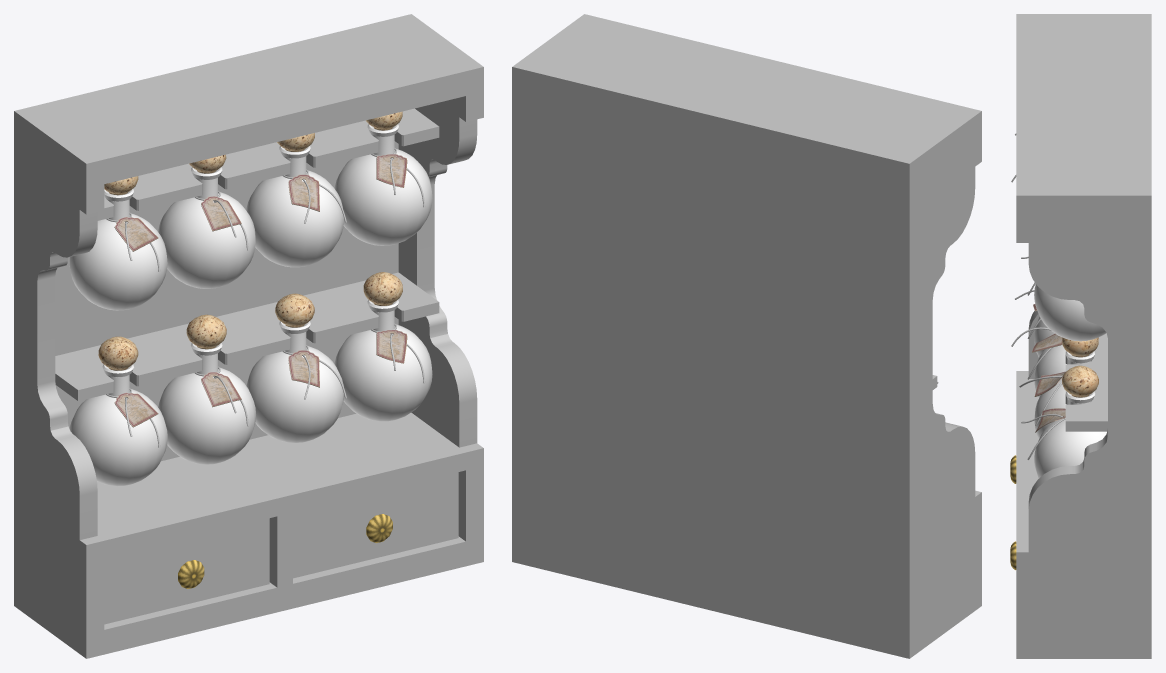
File: Spicerack.fbx
The picture shows the model from 3 angles, left to right: view 1: azimuth 30°, elevation 25°; view 2: azimuth 150°, elevation 25°; view 3: azimuth 270°, elevation 25°; orthographic projection. The views are drawn at different scales.
Visible parts, largest first — view 1: g_cabinet, g_bottle (×8), g_shelf, g_drawer1, g_drawer, g_shelf1, g_cork (×4), g_label2 (×2), g_label1 (×2), g_label (×2), g_label3 (×2); view 2: g_cabinet; view 3: g_cabinet, g_bottle (×5), g_shelf, g_cork (×2), g_label2, g_label3, g_label1.
Part boxes in pixels (bbox=[...]): g_cabinet: bbox=[14, 14, 483, 658]; g_bottle (×8): bbox=[69, 124, 432, 486]; g_shelf: bbox=[55, 272, 439, 401]; g_drawer1: bbox=[293, 472, 458, 578]; g_drawer: bbox=[104, 518, 269, 624]; g_shelf1: bbox=[97, 108, 439, 220]; g_cork (×4): bbox=[98, 272, 402, 370]; g_label2 (×2): bbox=[288, 174, 319, 387]; g_label1 (×2): bbox=[201, 196, 241, 407]; g_label (×2): bbox=[114, 217, 158, 427]; g_label3 (×2): bbox=[376, 154, 407, 363]; g_cabinet: bbox=[512, 14, 981, 658]; g_cabinet: bbox=[1016, 14, 1151, 658]; g_bottle (×5): bbox=[1034, 284, 1106, 478]; g_shelf: bbox=[1065, 333, 1107, 431]; g_cork (×2): bbox=[1062, 337, 1098, 397]; g_label2: bbox=[1034, 371, 1065, 396]; g_label3: bbox=[1035, 408, 1065, 432]; g_label1: bbox=[1032, 333, 1062, 352].
Bounding box in the file's own units: 45 × 53.57 × 14.78.
